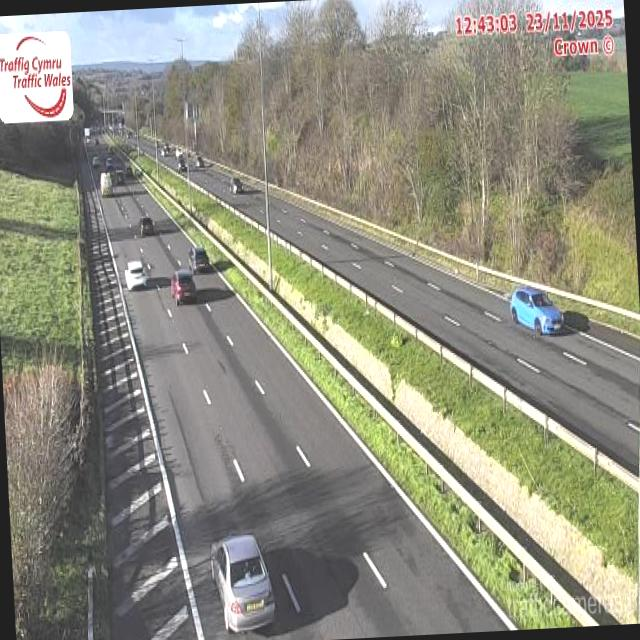foliage: (262, 0, 639, 309), (3, 361, 74, 634), (189, 21, 261, 172)
